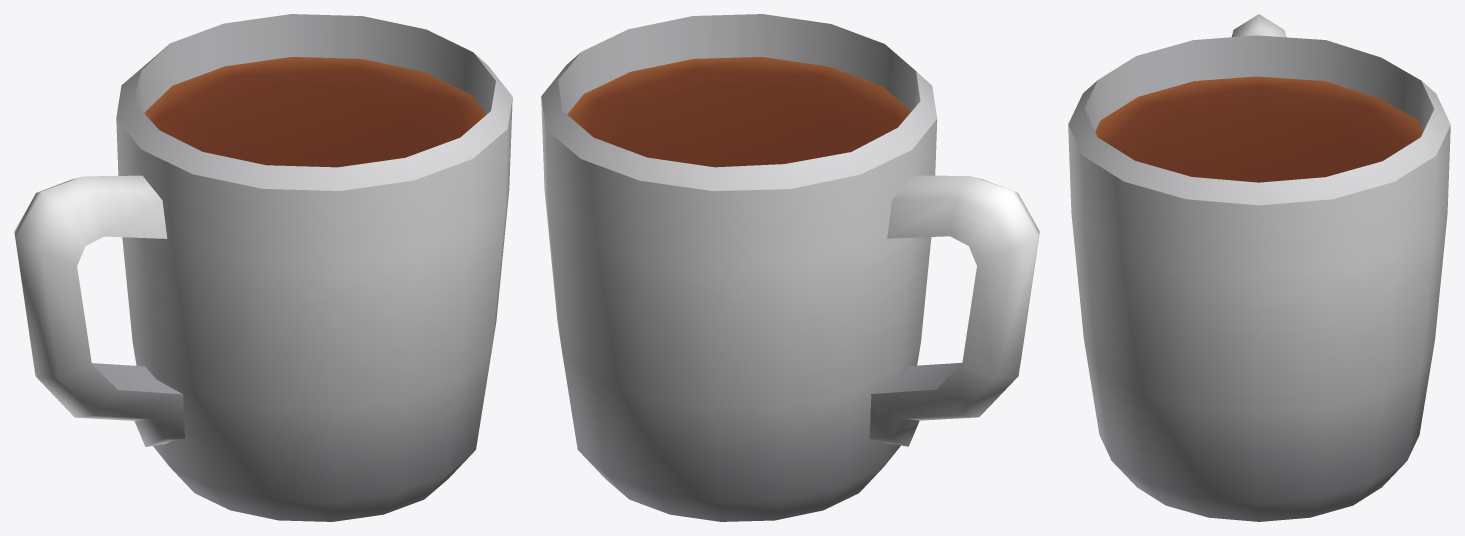
Rendered from m_Mug01_Coffee03.fbx.
3 renders of one model, left to right at view 1: azimuth 30°, elevation 25°; view 2: azimuth 150°, elevation 25°; view 3: azimuth 270°, elevation 25°, orthographic. The views are drawn at different scales.
Parts seen in each view (by area): view 1: m_Mug01_Coffee03; view 2: m_Mug01_Coffee03; view 3: m_Mug01_Coffee03.
Boxes of the visible parts, box(x1,y1,x2,y2) form: m_Mug01_Coffee03: box(14, 14, 512, 521); m_Mug01_Coffee03: box(541, 14, 1039, 521); m_Mug01_Coffee03: box(1068, 14, 1450, 521).
Size of the model in its own units: 15.22 by 11.5 by 11.16.
